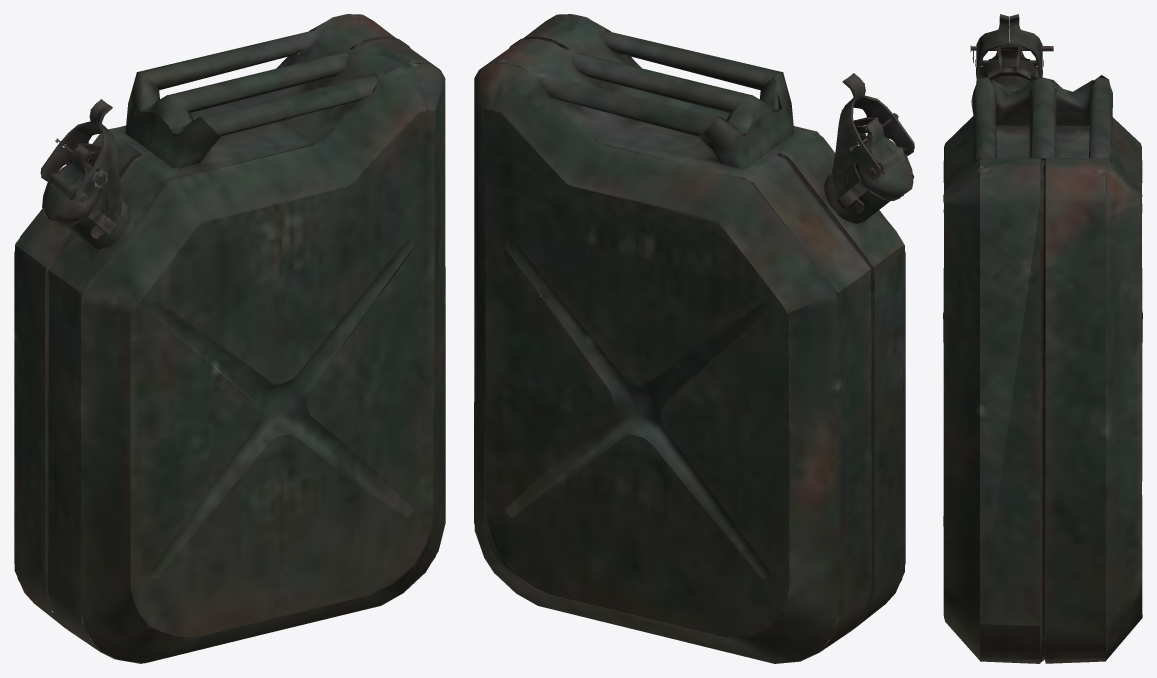
File: metal_jerrycan_green.gltf
3 renders of one model, left to right at view 1: azimuth 30°, elevation 25°; view 2: azimuth 150°, elevation 25°; view 3: azimuth 270°, elevation 25°, orthographic. The views are drawn at different scales.
Visible parts, largest first — view 1: metal_jerrycan_green_pin; view 2: metal_jerrycan_green_pin; view 3: metal_jerrycan_green_pin.
Part boxes in pixels (box(x1,y1,x2,y2)): metal_jerrycan_green_pin: box(14, 14, 445, 663); metal_jerrycan_green_pin: box(474, 14, 914, 663); metal_jerrycan_green_pin: box(943, 14, 1142, 663).
Bounding box in the file's own units: 0.361 × 0.5 × 0.1724.
Materials: 1 (1 with a texture image).
